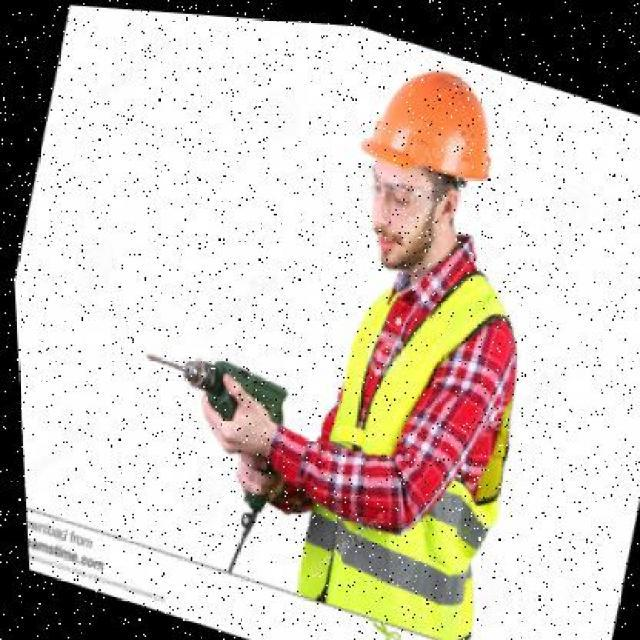helmet: (345, 46, 517, 212)
vest: (256, 231, 562, 639)
